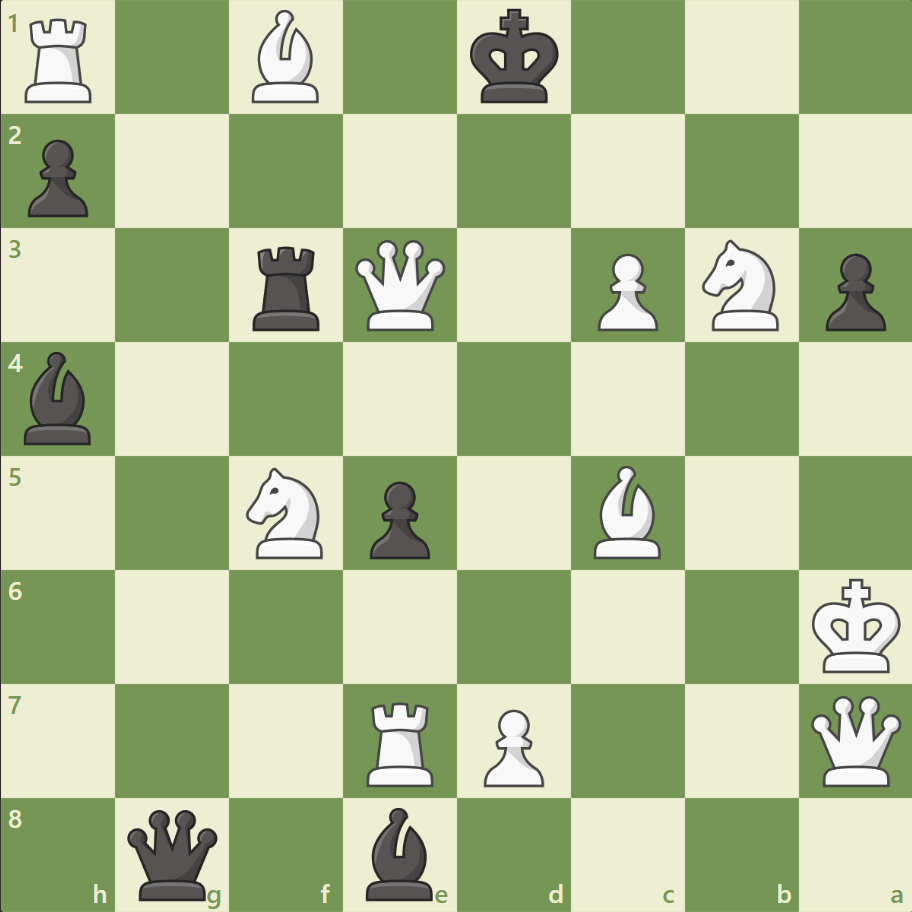B: (585, 460, 669, 563), (244, 6, 328, 109)
K: (806, 571, 906, 679)
N: (238, 461, 335, 564), (692, 234, 789, 337)
P: (474, 700, 549, 791), (588, 246, 662, 337)
Q: (805, 690, 904, 789), (351, 236, 450, 335)
R: (19, 12, 102, 109), (360, 693, 442, 790)
b: (358, 801, 442, 904), (17, 347, 101, 449)
k: (465, 4, 565, 112)
p: (20, 132, 95, 223), (361, 473, 435, 564), (815, 246, 889, 337)
q: (124, 804, 223, 903)
r: (246, 239, 329, 336)
